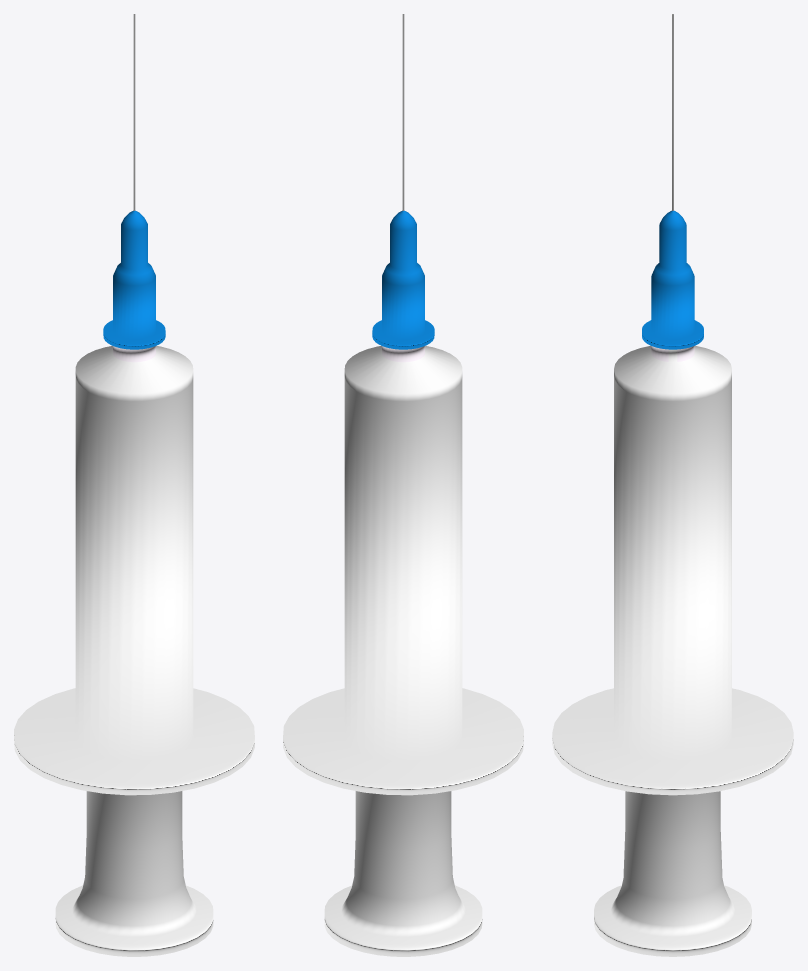
Rendered from Syringe.fbx.
3 renders of one model, left to right at view 1: azimuth 30°, elevation 25°; view 2: azimuth 150°, elevation 25°; view 3: azimuth 270°, elevation 25°, orthographic.
Visible parts, largest first — view 1: Syringe; view 2: Syringe; view 3: Syringe.
Part boxes in pixels (x1=…): Syringe: x1=14, y1=14, x2=254, y2=956; Syringe: x1=283, y1=14, x2=523, y2=956; Syringe: x1=552, y1=14, x2=793, y2=956.
Bounding box in the file's own units: 571 × 2373 × 571.
